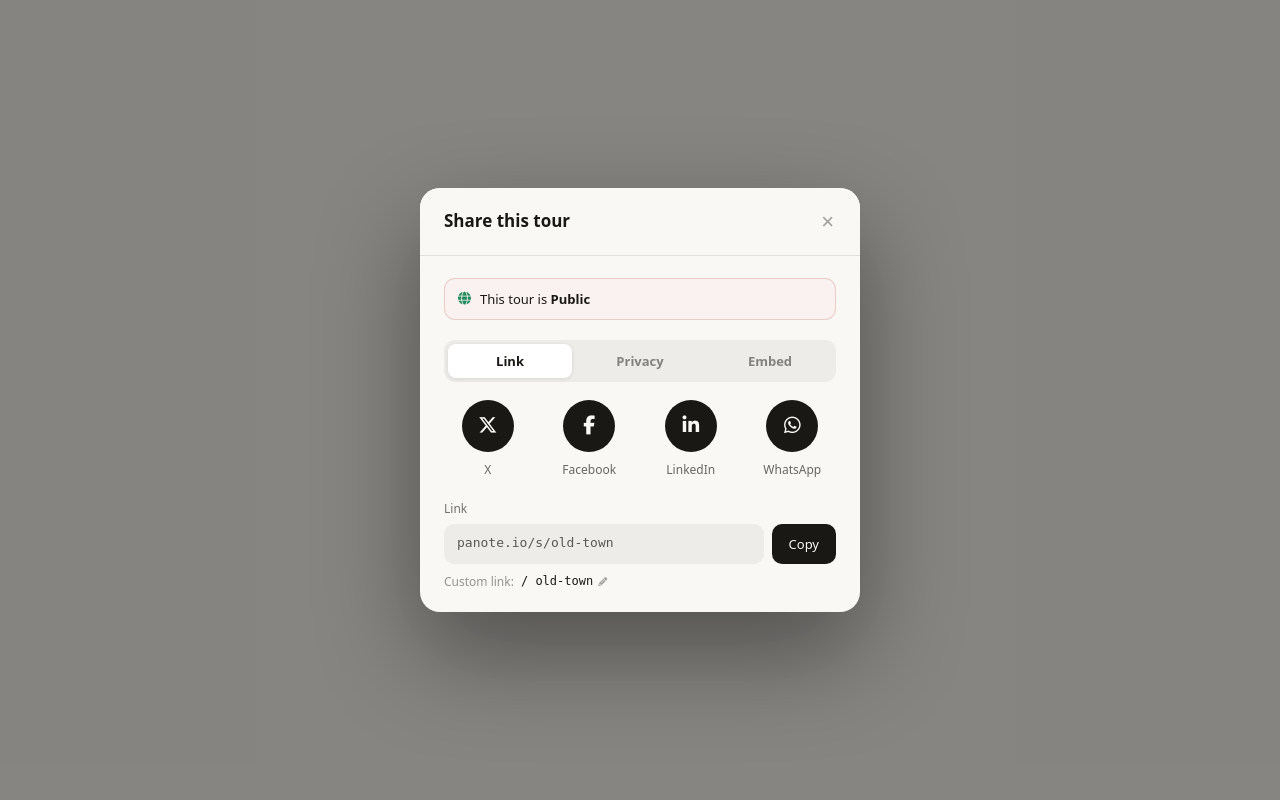
Test case: share route › shows a 409 slug taken inline and keeps the old link
Click the button with aria-label "Edit custom link" at (564, 581), box x1=521 y1=574 x2=607 y2=588
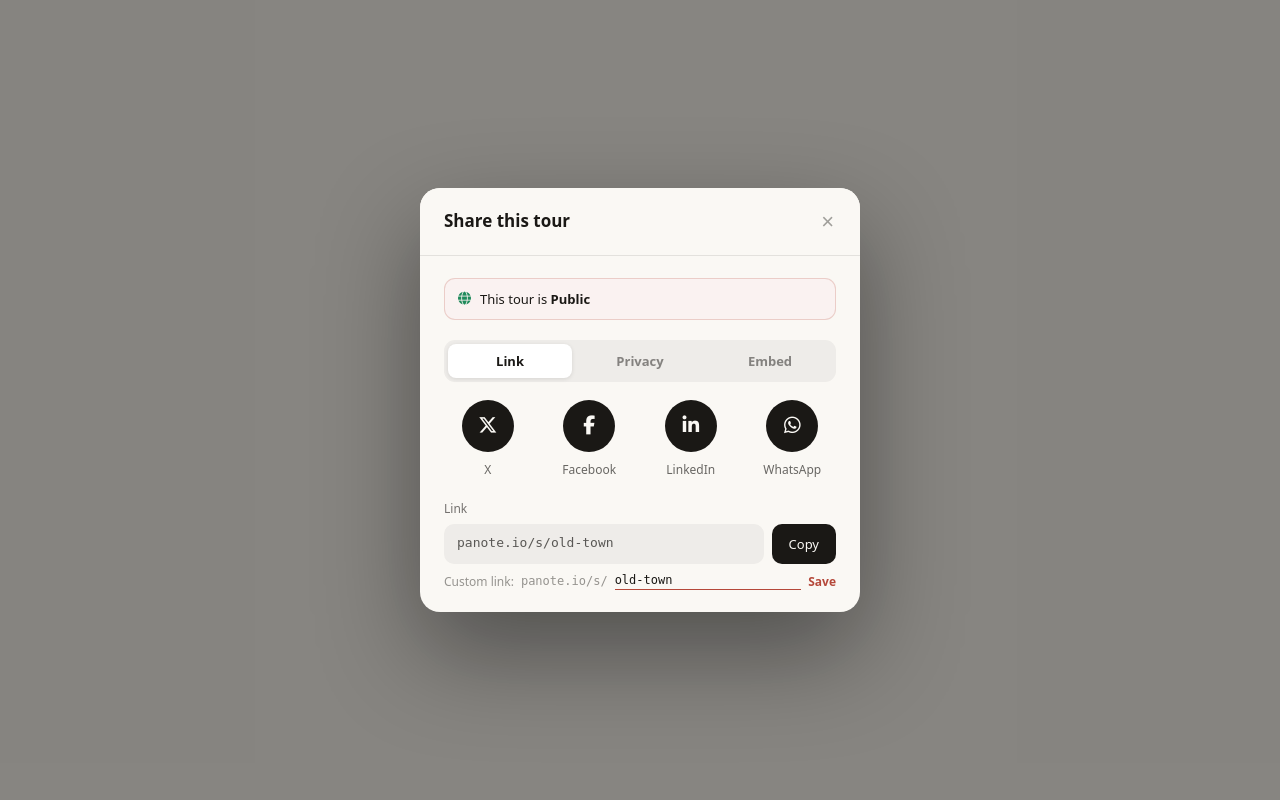
Replace the text in the field named "Custom link" with "taken-link" at (708, 581), box x1=615 y1=572 x2=801 y2=590
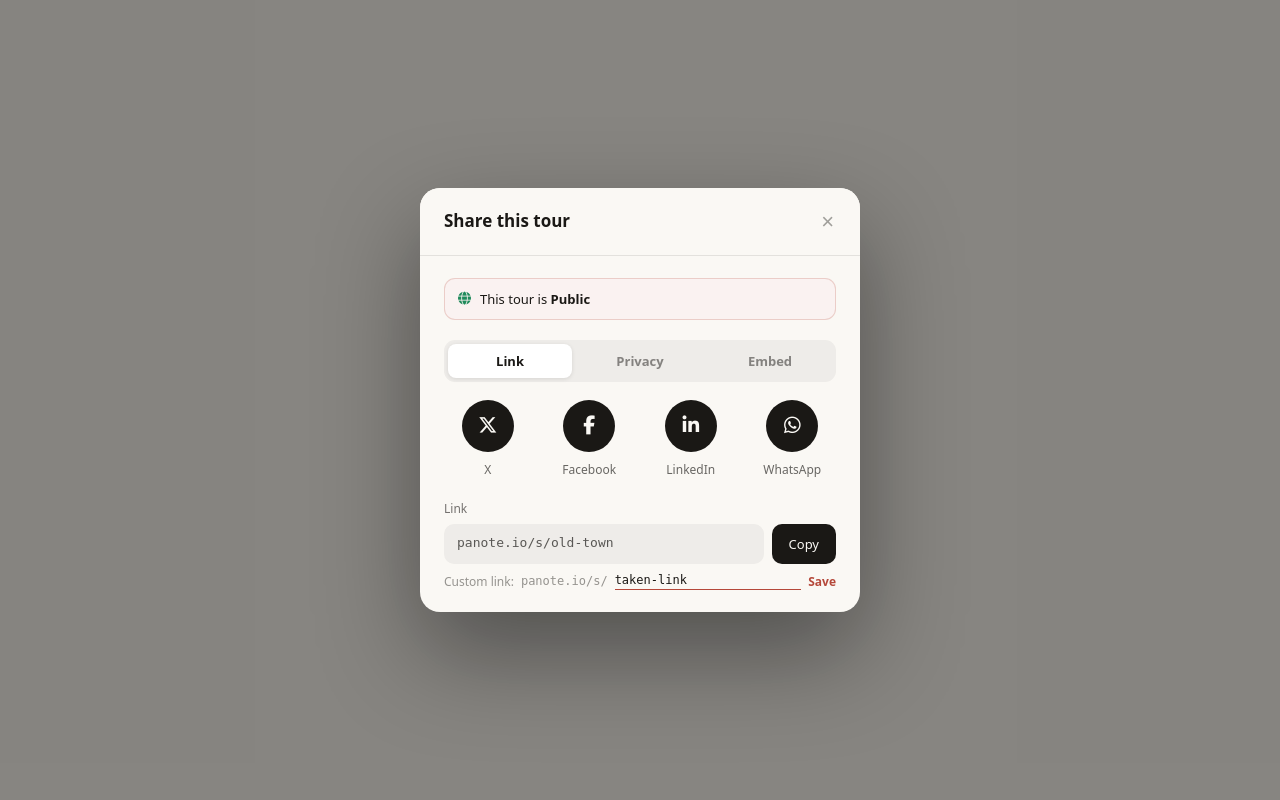
Press Enter in the field named "Custom link", box x1=615 y1=572 x2=801 y2=590
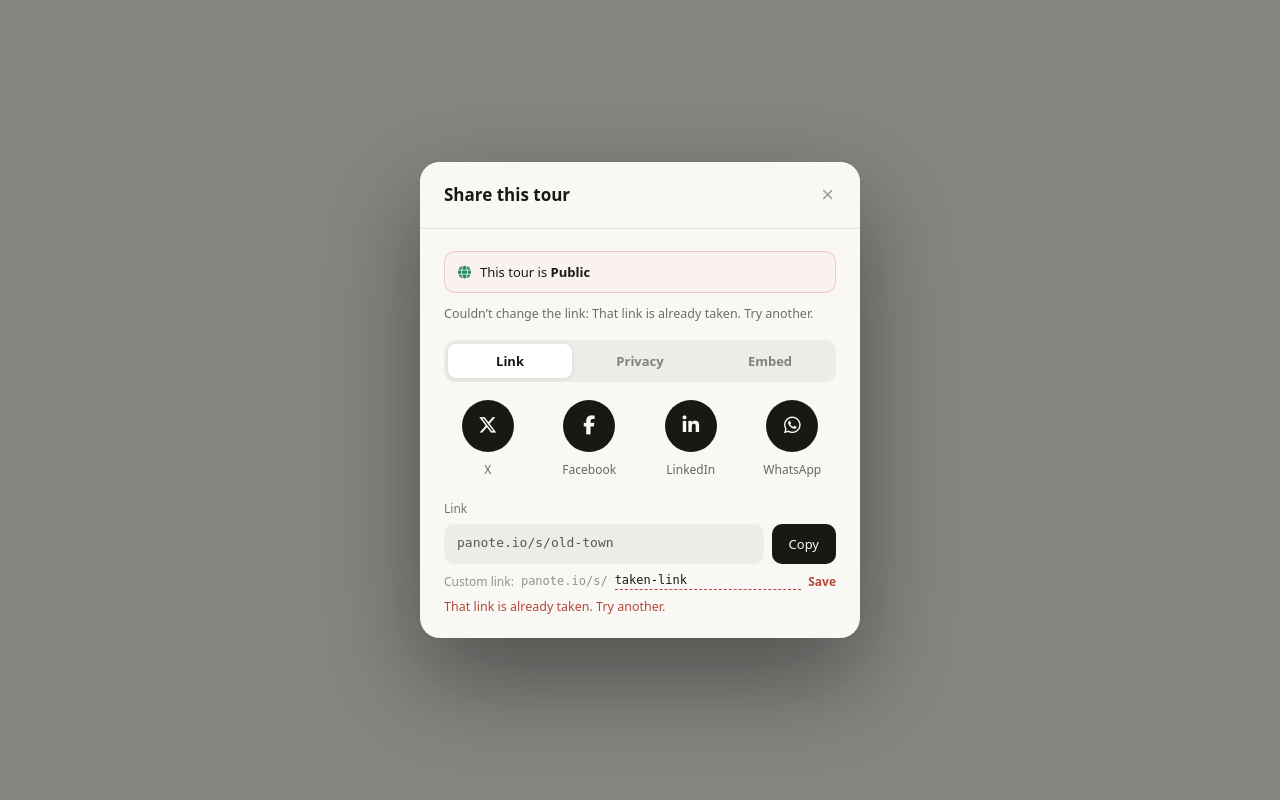
Expected: the text "panote.io/s/old-town" is shown, x1=444 y1=524 x2=764 y2=564
Now the message reads "That link is already taken. Try another.", box x1=444 y1=598 x2=665 y2=614
